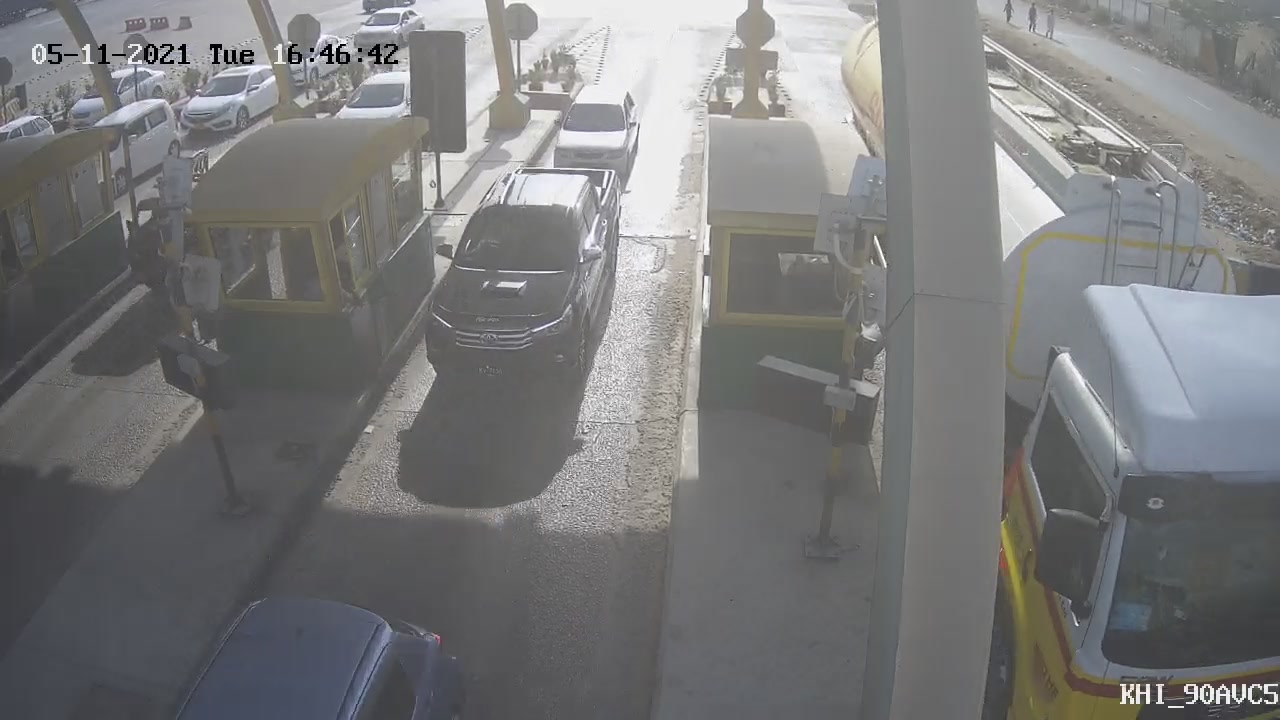F1: (412, 149, 639, 418), (542, 70, 652, 207)
